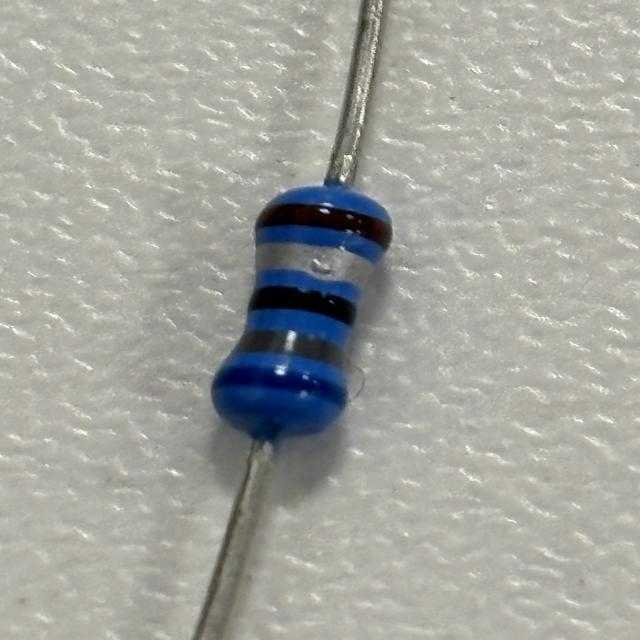resistor: (208, 188, 397, 433)
